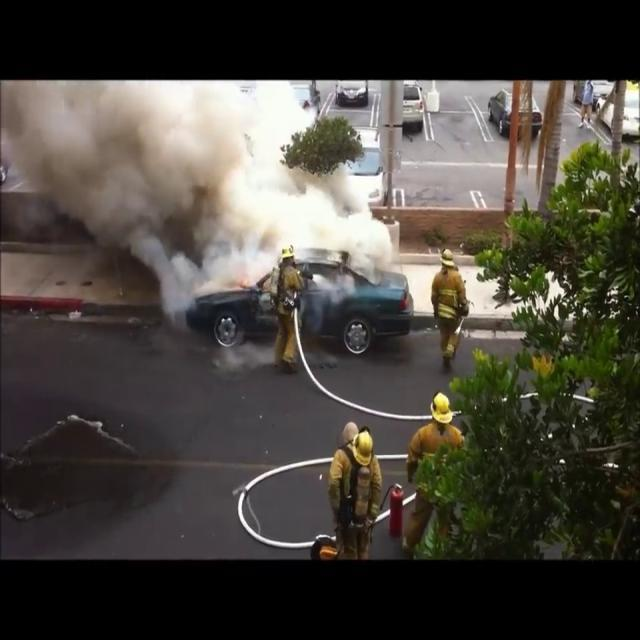Smoke: (1, 80, 408, 308)
